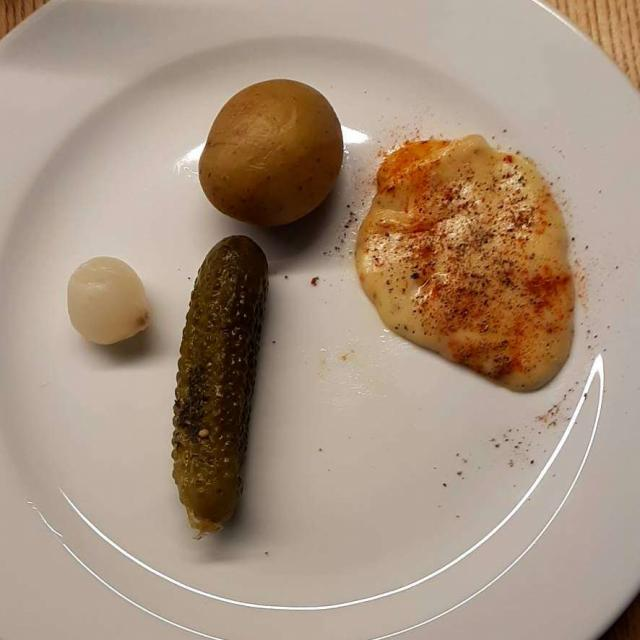cheese-for-raclette: (356, 138, 574, 387)
cucumber-pickled: (173, 244, 263, 536)
pearl-onions: (68, 256, 147, 346)
potatoes-steamed: (200, 81, 341, 226)
